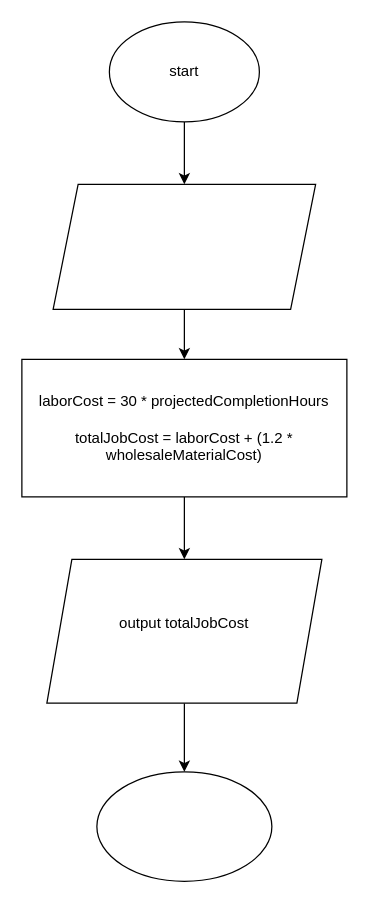
Image size: 369x904. Some labels were removed from this diagram. Each missing label, with the box of its shape:
End of program: (96, 771, 272, 881)
input projectedCompletionHours input wholesaleMaterialCost: (52, 183, 316, 309)
